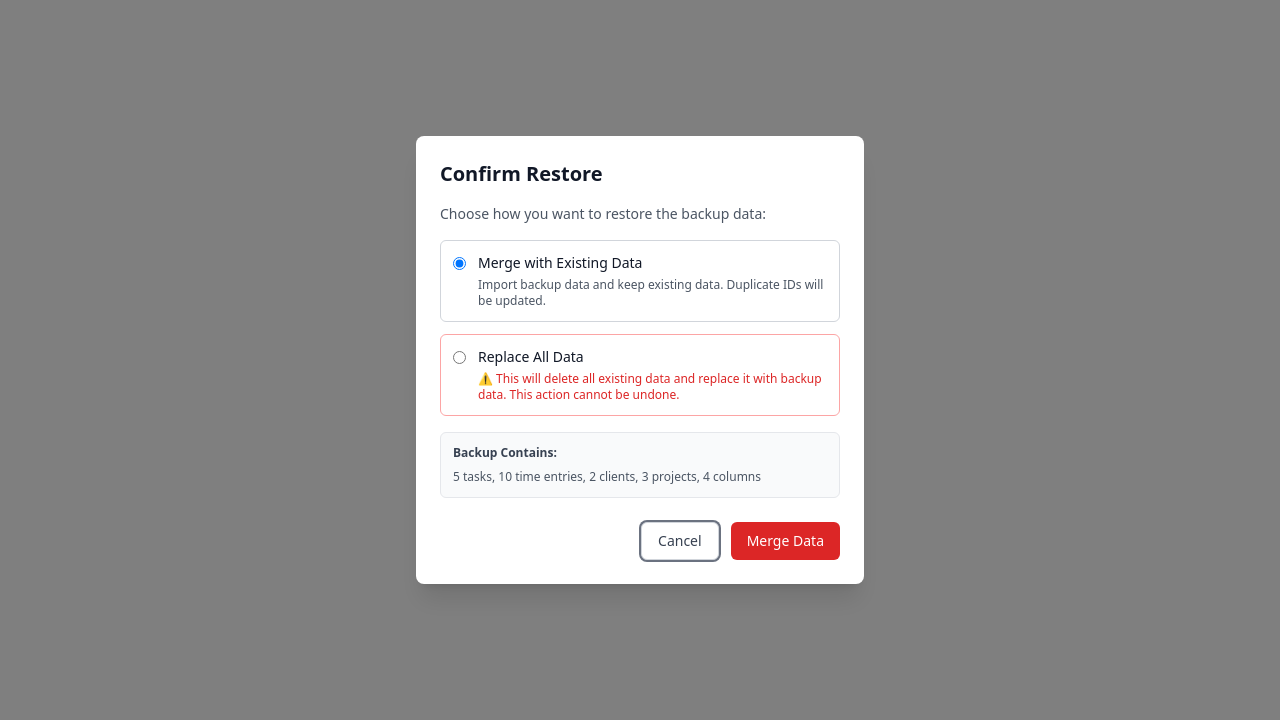
Test: RestoreConfirmationDialog › shows confirmation text input for replace mode
The image size is (1280, 720).
What coordinates should you click on to do the following:
click the radio button labelled "Replace All Data"
I would click on:
 (460, 358)
Its box is [453, 351, 466, 364].
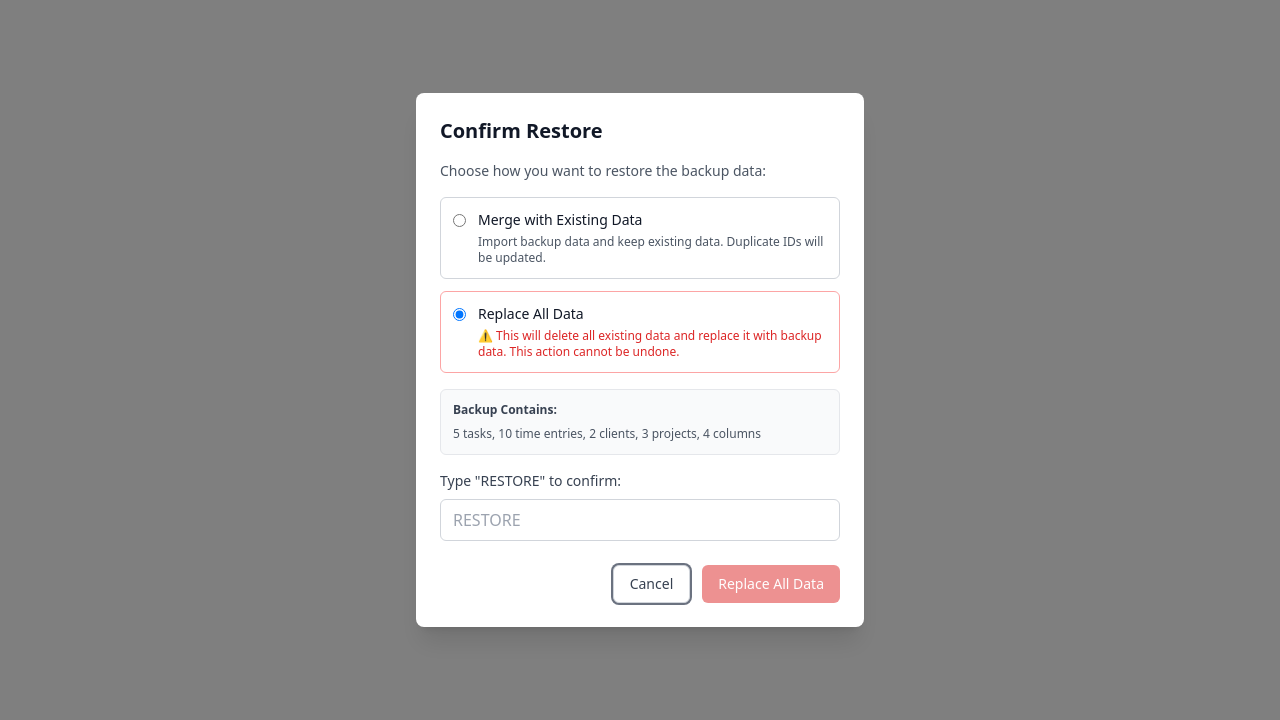
Now the field labelled "Type \"RESTORE\" to confirm:" is shown, box [440, 499, 840, 541]
